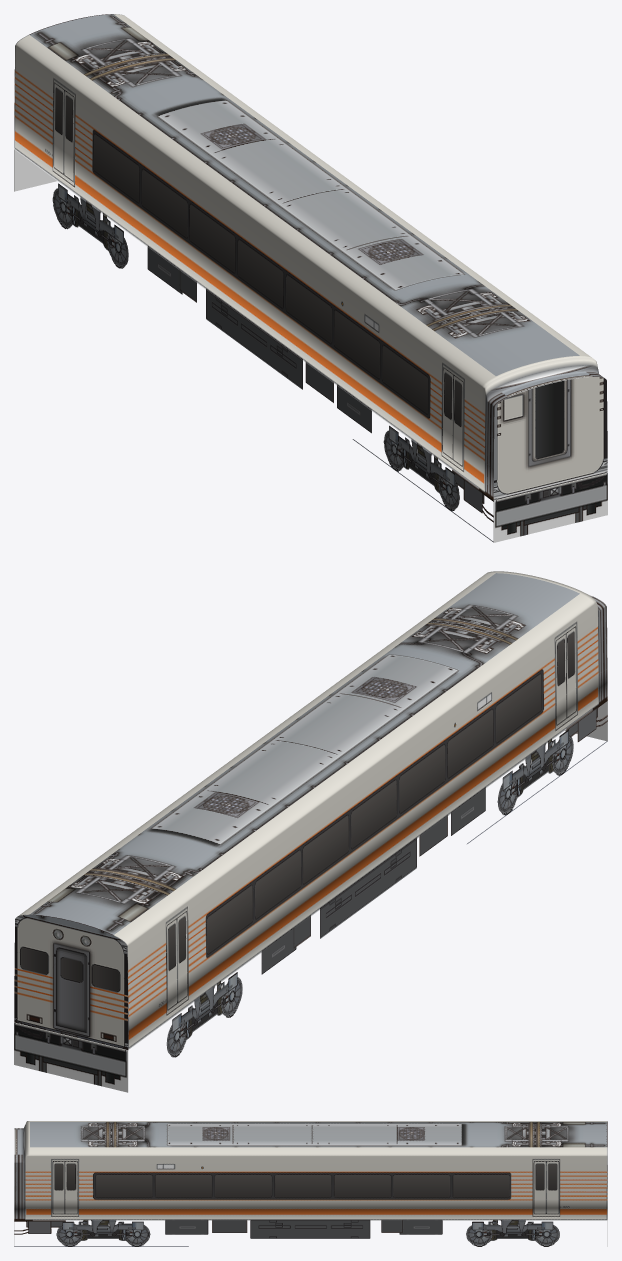
File: car2.glb
The picture shows the model from 3 angles, top to bottom: view 1: azimuth 30°, elevation 25°; view 2: azimuth 150°, elevation 25°; view 3: azimuth 270°, elevation 25°; orthographic projection. The views are drawn at different scales.
Visible parts, largest first — view 1: kintetsu-21000-car2; view 2: kintetsu-21000-car2; view 3: kintetsu-21000-car2.
Part boxes in pixels (x1,y1,x2,y2): kintetsu-21000-car2: [14, 14, 607, 542]; kintetsu-21000-car2: [14, 571, 607, 1092]; kintetsu-21000-car2: [14, 1121, 607, 1246].
Size of the model in its own units: 2.8 by 3.7 by 20.44.
Materials: 8 (7 with a texture image).
